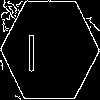I: (25, 25, 38, 72)
